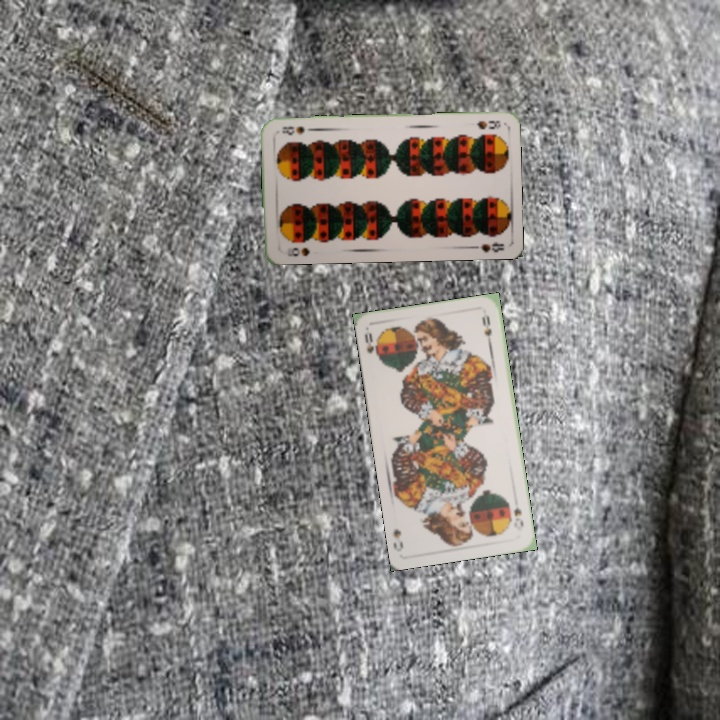S8: (473, 116, 503, 132), (283, 244, 312, 259)
SO: (360, 328, 382, 363), (510, 495, 526, 529)
